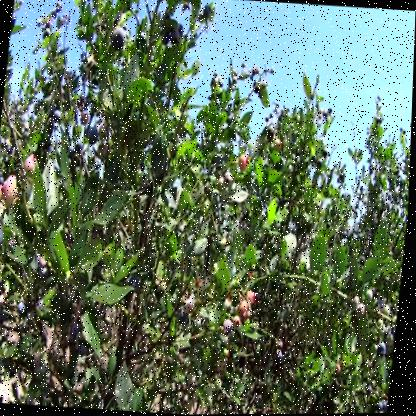intermediate: (242, 294, 260, 318), (24, 154, 41, 179), (239, 156, 250, 172), (1, 186, 6, 208)
mature: (162, 19, 184, 48), (112, 30, 127, 49), (89, 126, 101, 148), (1, 221, 7, 254), (380, 343, 390, 360)
young: (220, 175, 240, 206), (3, 177, 18, 213), (352, 296, 369, 318), (377, 321, 392, 341), (366, 288, 378, 309)
